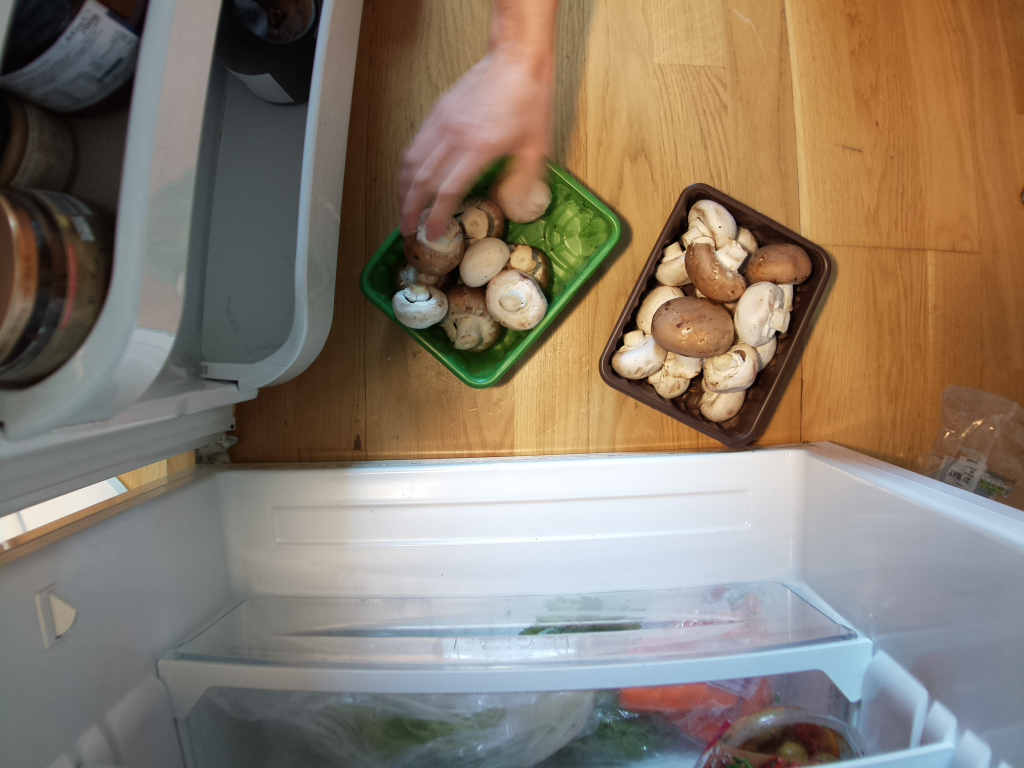mushrooms: (597, 167, 841, 451), (359, 144, 625, 390)
